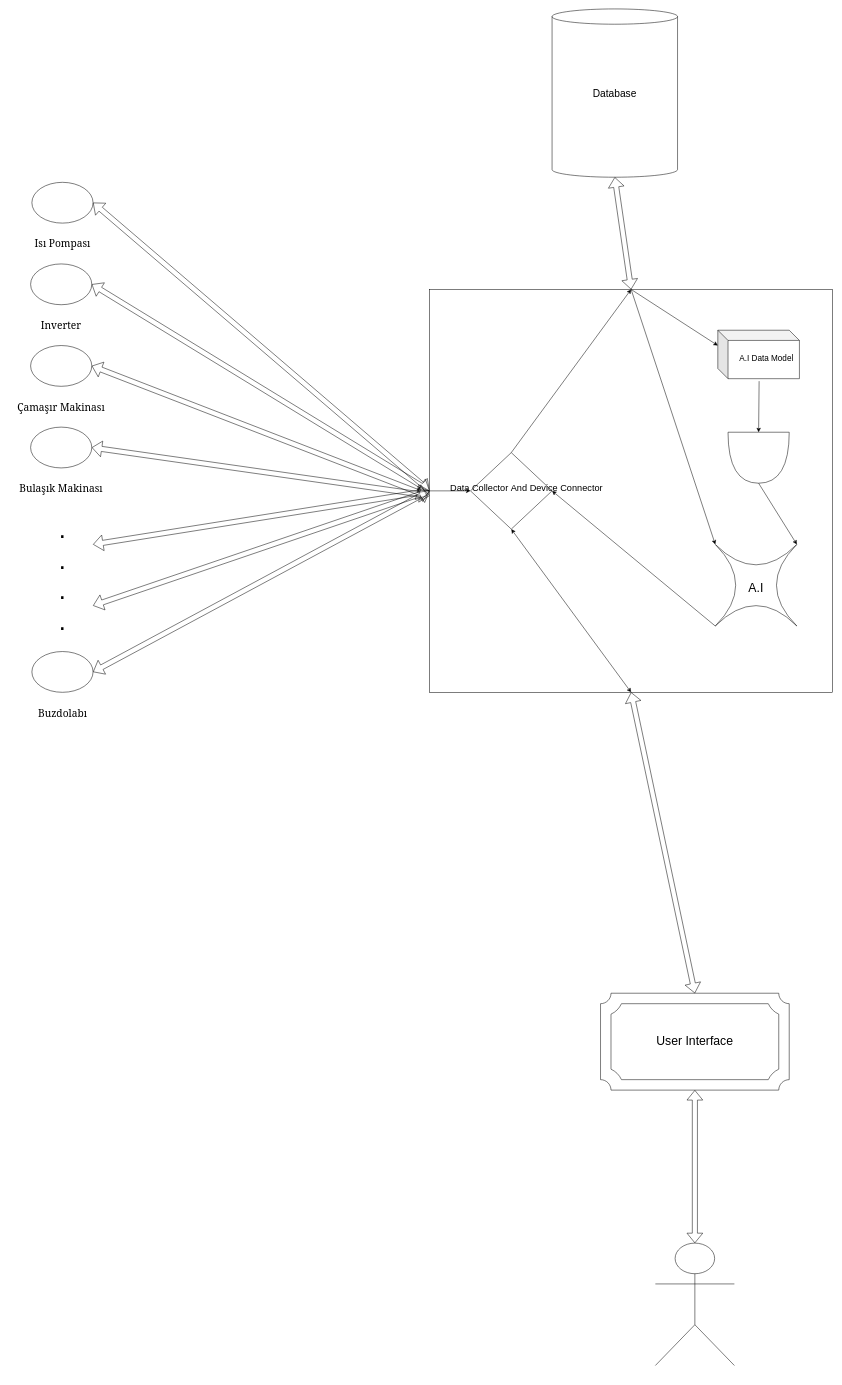
Image size: 842x1385. Some labels were removed from this diagram. Here are the shapes that lost their labels. From the top down, the box of each, then its label:
(728, 432, 789, 483): Training
(655, 1243, 734, 1366): Actor
